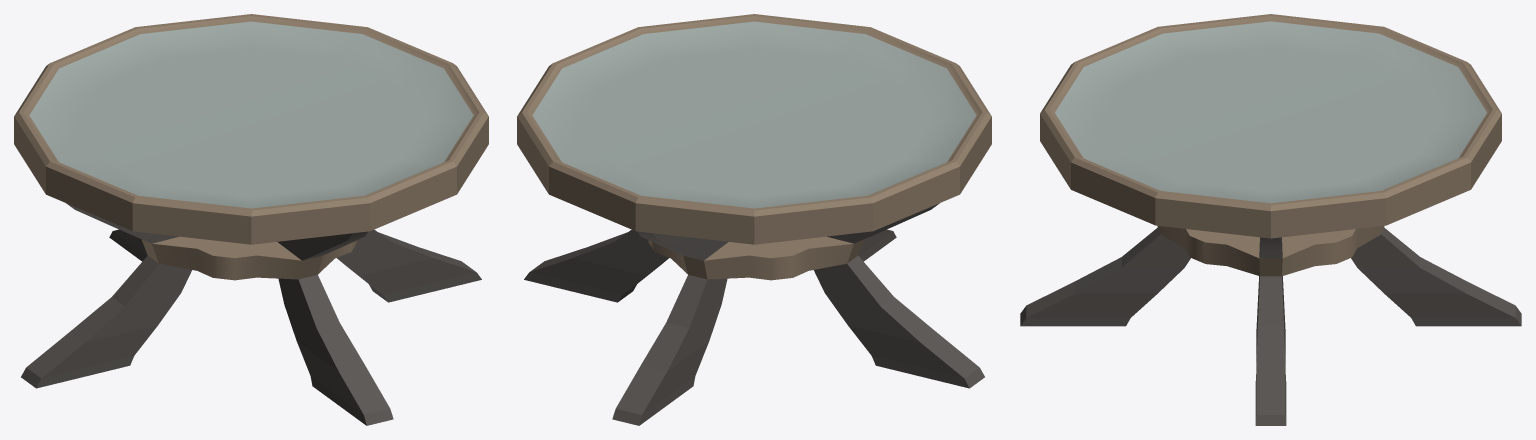
File: PatioTableWTexture.fbx
3 views of the same model, side by side, from view 1: azimuth 30°, elevation 25°; view 2: azimuth 150°, elevation 25°; view 3: azimuth 270°, elevation 25° (orthographic). The views are drawn at different scales.
Visible parts, largest first — view 1: pCylinder1; view 2: pCylinder1; view 3: pCylinder1.
Boxes of the visible parts, bbox=[...] form: pCylinder1: bbox=[14, 14, 488, 425]; pCylinder1: bbox=[517, 14, 991, 425]; pCylinder1: bbox=[1020, 14, 1521, 425].
Size of the model in its own units: 0.2606 by 0.1207 by 0.2606.
